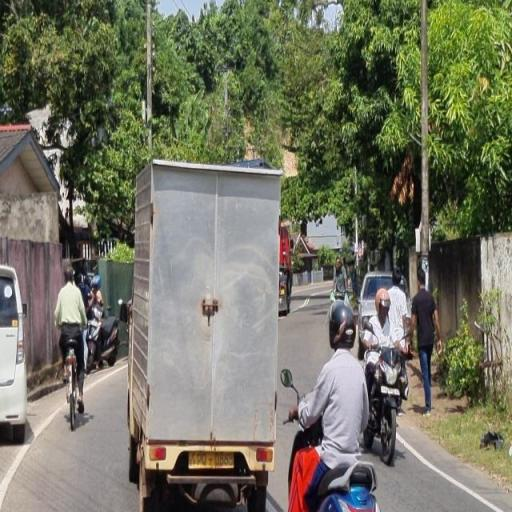double_white_line: (397, 433, 505, 512)
